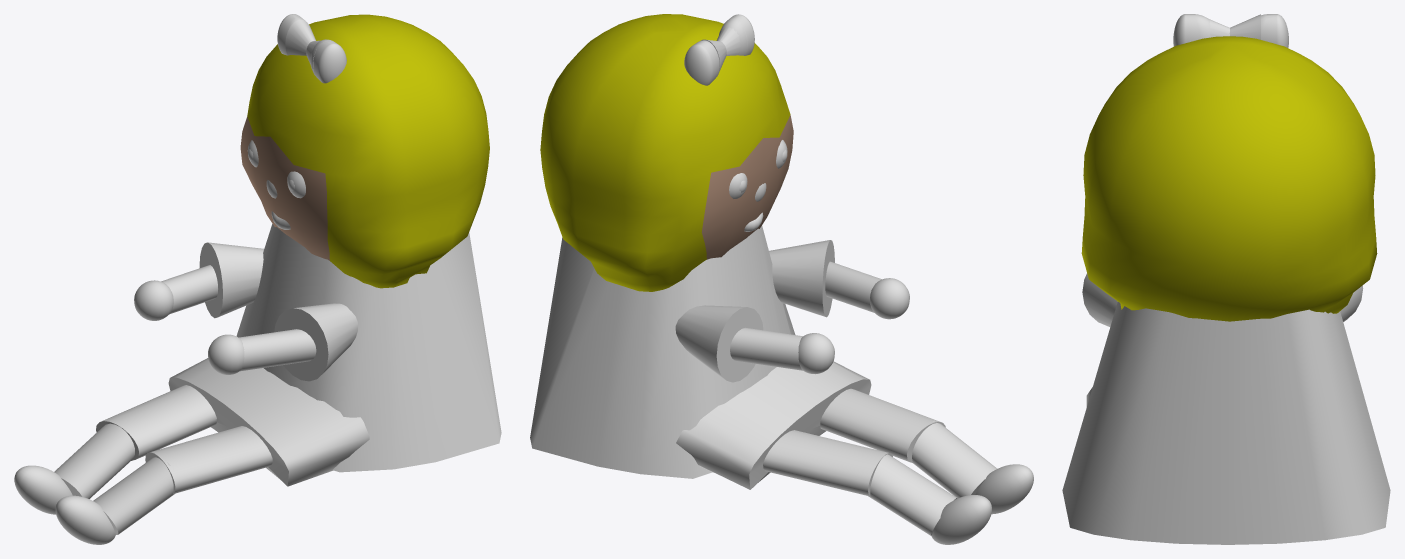
Rendered from goldiV1.fbx.
3 renders of one model, left to right at view 1: azimuth 30°, elevation 25°; view 2: azimuth 150°, elevation 25°; view 3: azimuth 270°, elevation 25°, orthographic. The views are drawn at different scales.
Visible parts, largest first — view 1: pSphere1, pCylinder1, pCylinder12, pCylinder14, pCylinder13, pCylinder11, pCylinder15, pCylinder2, pCylinder16, pCylinder10, pSphere5, pSphere4 (+5 smaller); view 2: pSphere1, pCylinder1, pCylinder12, pCylinder13, pCylinder14, pCylinder2, pCylinder15, pCylinder11, pCylinder16, pCylinder8, pSphere4, pSphere5 (+5 smaller); view 3: pSphere1, pCylinder1, pCylinder11, pSphere15, pSphere16, pCylinder20.
Part boxes in pixels (box(x1,y1,x2,y2)): pSphere1: box(240, 14, 489, 288); pCylinder1: box(236, 224, 501, 472); pCylinder12: box(168, 358, 369, 486); pCylinder14: box(145, 426, 272, 493); pCylinder13: box(96, 385, 216, 460); pCylinder11: box(274, 303, 357, 381); pCylinder15: box(54, 423, 134, 498); pCylinder2: box(199, 242, 263, 318); pCylinder16: box(93, 457, 174, 534); pCylinder10: box(239, 329, 316, 371); pSphere5: box(55, 495, 115, 544); pSphere4: box(14, 465, 72, 514); pSphere1: box(540, 14, 793, 291); pCylinder1: box(530, 225, 795, 478); pCylinder12: box(676, 361, 871, 489); pCylinder13: box(763, 430, 892, 496); pCylinder14: box(820, 388, 945, 462); pCylinder2: box(675, 305, 763, 382); pCylinder15: box(868, 454, 957, 535); pCylinder11: box(769, 240, 834, 317); pCylinder16: box(912, 420, 997, 498); pCylinder8: box(730, 327, 802, 370); pSphere4: box(931, 495, 991, 544); pSphere5: box(975, 464, 1033, 514); pSphere1: box(1081, 36, 1377, 321); pCylinder1: box(1062, 302, 1390, 544); pCylinder11: box(1082, 273, 1117, 326); pSphere15: box(1173, 14, 1210, 46); pSphere16: box(1261, 14, 1288, 47); pCylinder20: box(1229, 14, 1260, 39).
Size of the model in its own units: 39.66 by 22.32 by 37.48.
